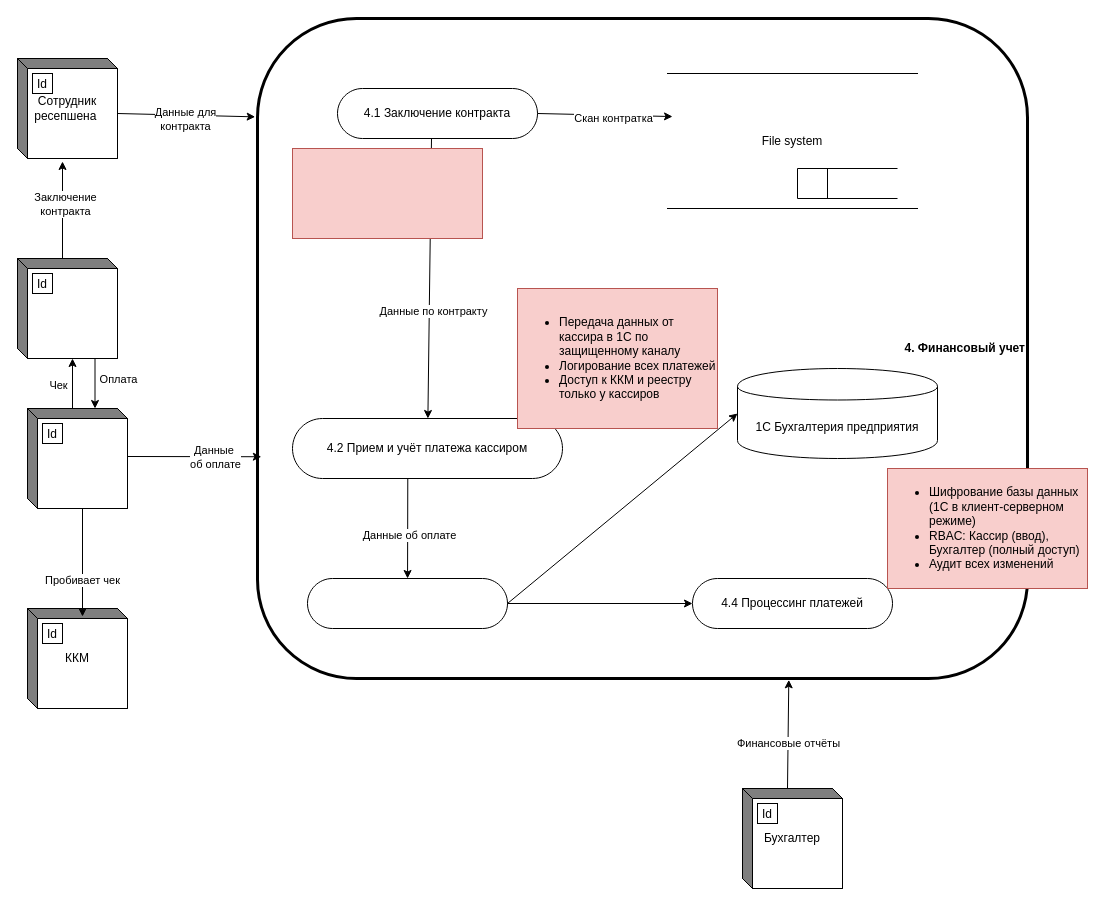
Image size: 1105x906. Some labels were removed from this diagram. Each missing label, with the centre of its shape:
"4.3 Внесение данных в 1С Бухгалтерия" goes at [407,603].
"Кассир" goes at [77,458].
"Контракты" goes at [847,183].
"Пациент" goes at [67,308].
"Шифрование при передаче Доступ: Ресепшен, Бухгалтер" goes at [387,193].
